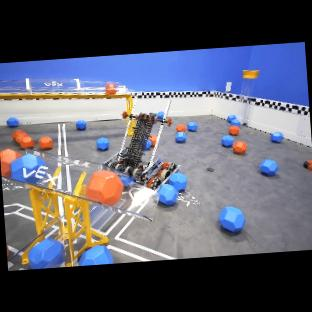V5_BLUE: (26, 236, 64, 268), (155, 170, 187, 206), (217, 204, 245, 233), (258, 157, 277, 176), (269, 131, 282, 143), (95, 137, 108, 149), (6, 116, 17, 125), (75, 120, 85, 129)
V5_RED: (84, 167, 122, 205), (12, 129, 32, 147), (38, 136, 52, 147), (233, 142, 246, 153), (229, 124, 239, 133)
